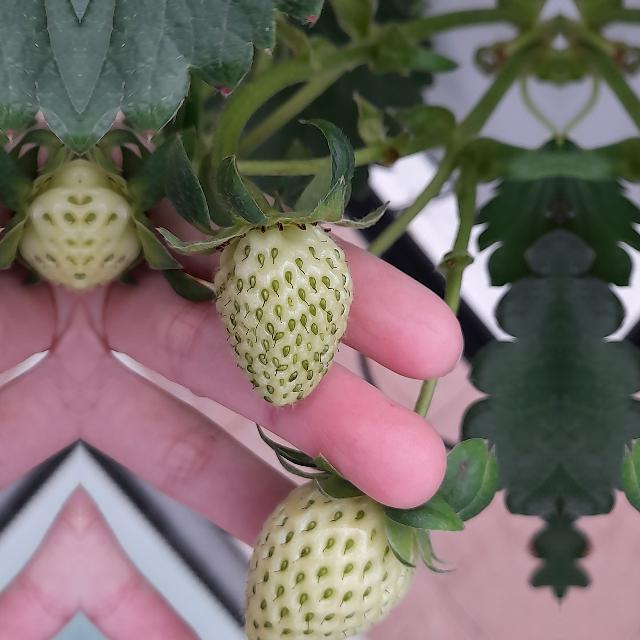Health_25: (244, 474, 421, 640), (214, 224, 352, 406)
